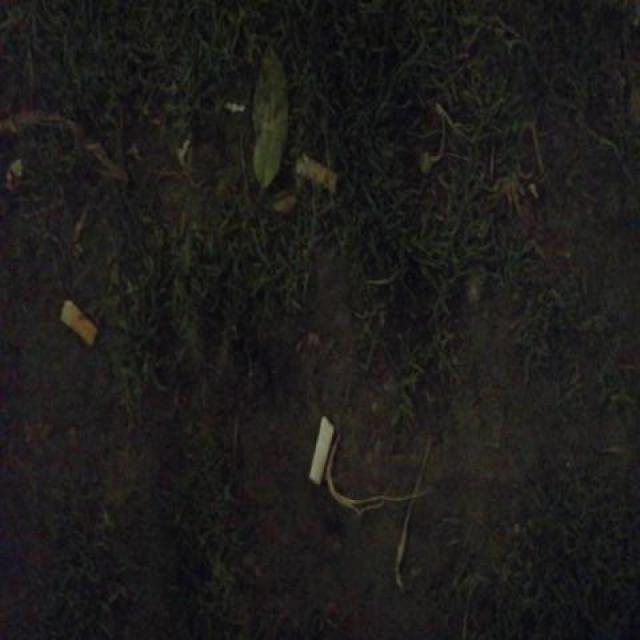non-organic waste: (290, 148, 342, 203), (304, 410, 339, 489), (55, 295, 101, 352)
